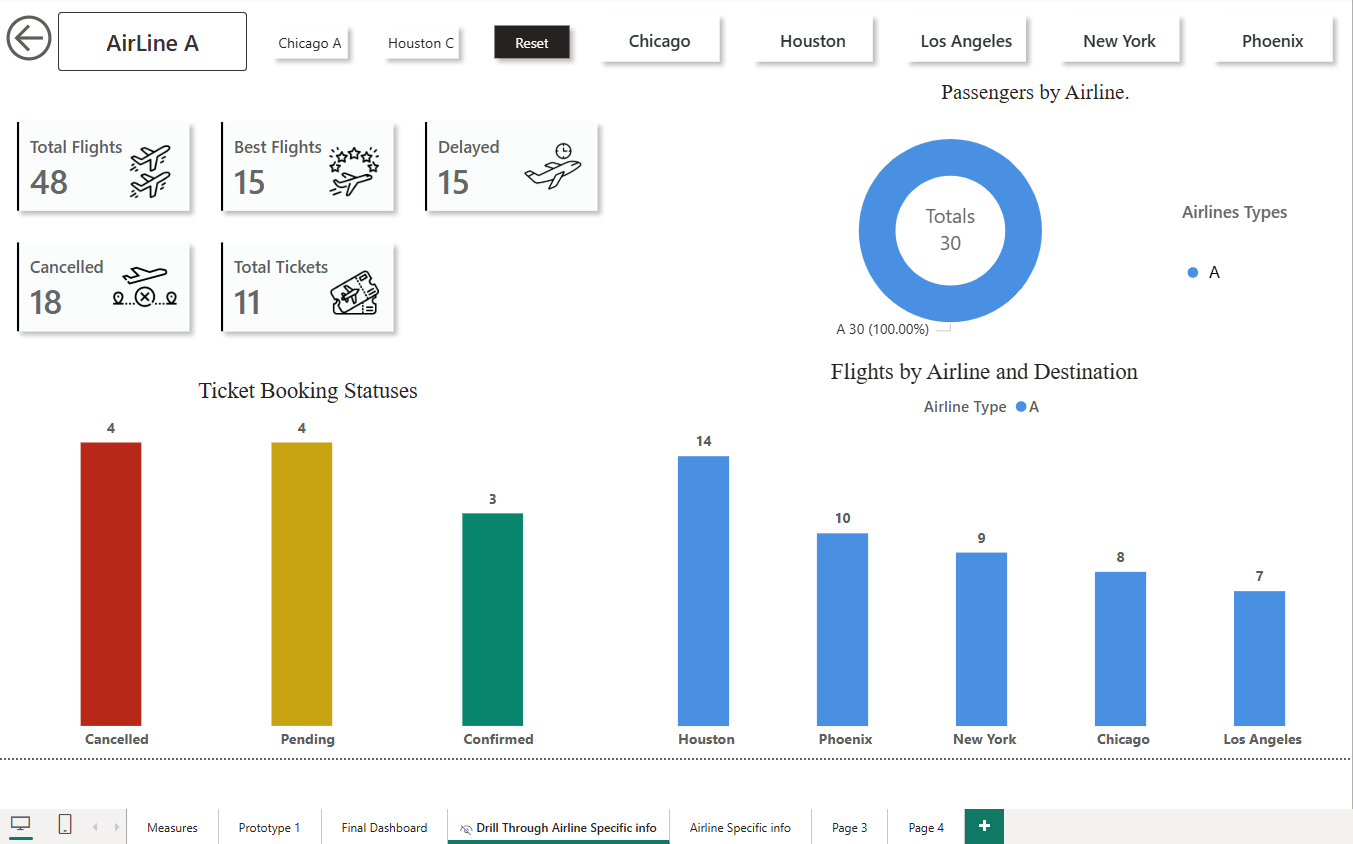

Layout of this report page (visuals, bound fields, positions):
{"tool":"powerbi","page":{"name":"Drill Through Airline Specific info","canvas":[1280,720],"ordinal":3},"visuals":[{"type":"DonutChartGMO1461469098694","title":"Passengers by Airline.","fields":{"Category":["Flight_Information.Airline Type"],"Y":["CountNonNull(Passenger_Information.PassengerID)"]},"box":[681.3,78.9,598.7,263.1],"z":0},{"type":"columnChart","title":"Flights by Airline and Destination","fields":{"Category":["Flight_Information.Destination"],"Series":["Flight_Information.Airline Type"],"Y":["CountNonNull(Flight_Information.FlightID)"]},"box":[584.8,342.1,695.2,377.9],"z":1000},{"type":"shape","box":[113.4,11.8,328.4,55.3],"z":2000},{"type":"clusteredColumnChart","title":"Ticket Booking Statuses","fields":{"Category":["Ticket_Information.BookingStatus"],"Y":["CountNonNull(Ticket_Information.FlightID)"]},"box":[0,360.1,584.2,360.1],"z":3000},{"type":"advancedSlicerVisual","title":"Destination","fields":{"Values":["Flight_Information.Destination"]},"box":[542.5,0,737.5,78.9],"z":6000},{"type":"actionButton","box":[0.9,11.8,78.9,55.3],"z":7000},{"type":"cardVisual","fields":{"Data":["measures (2).Total Flights","measures (2).Best Flights","measures (2).To Be Improved Flights","measures (2).critical Flights","measures (2).Total Tickets"]},"box":[0,101.6,584.2,233.1],"z":7001}]}

Visuals, with their boxes on the page's 1280x720 design canvas (x1, y1, x2, y2). These are canvas units, not pixel positions in the 1353x844 screenshot, which may show the page scaled, cropped or inside an application window:
"Passengers by Airline." DonutChartGMO1461469098694: rect(681, 79, 1280, 342)
"Flights by Airline and Destination" columnChart: rect(585, 342, 1280, 720)
shape: rect(113, 12, 442, 67)
"Ticket Booking Statuses" clusteredColumnChart: rect(0, 360, 584, 720)
"Destination" advancedSlicerVisual: rect(542, 0, 1280, 79)
actionButton: rect(1, 12, 80, 67)
cardVisual - measures (2).Total Flights x measures (2).Best Flights: rect(0, 102, 584, 335)
